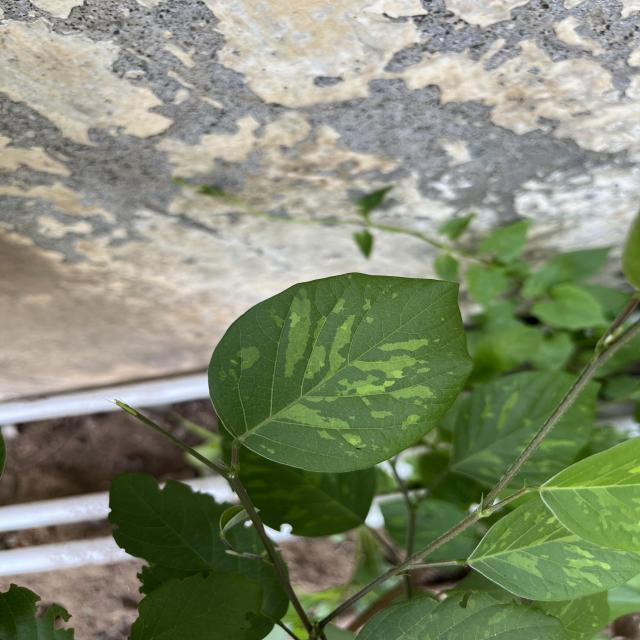Desmodium gangeticum: (203, 266, 478, 477)
